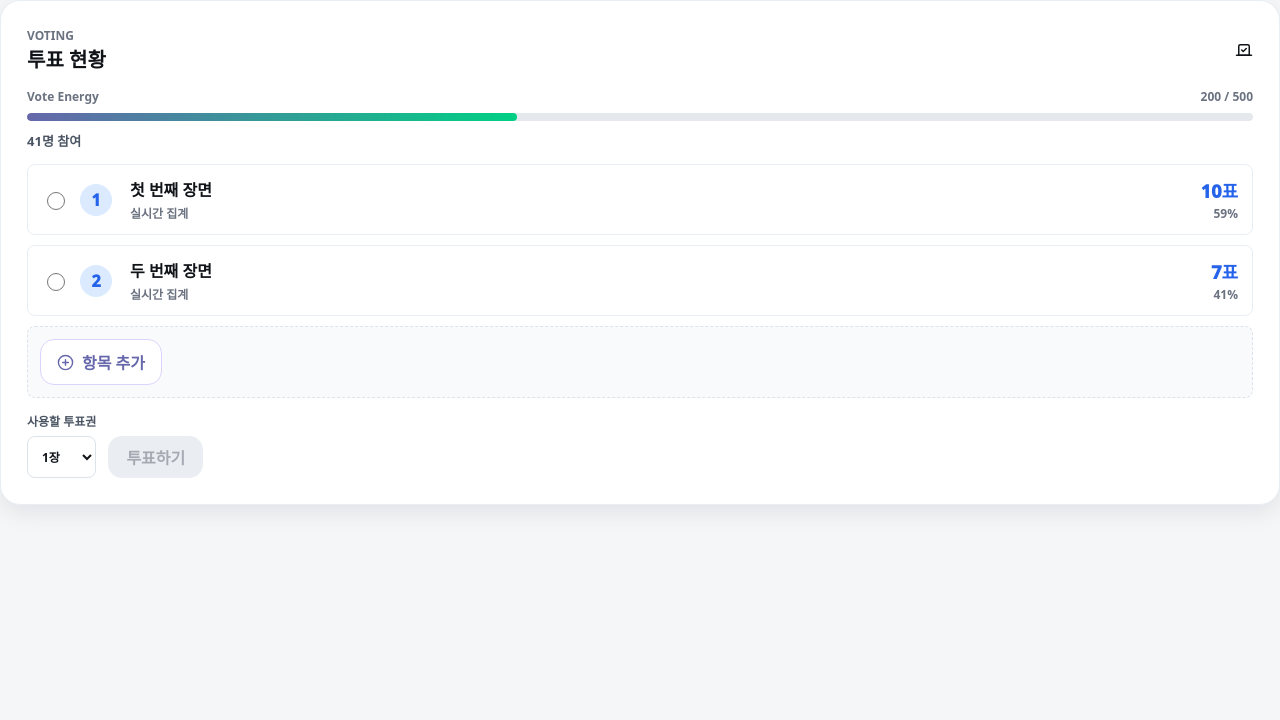
Test: VotePanel › closes the current vote when Vote Energy reaches the goal
Click the radio button labelled "1 첫 번째 장면 실시간 집계 10표 59%" at [56, 201], box [47, 192, 65, 210]
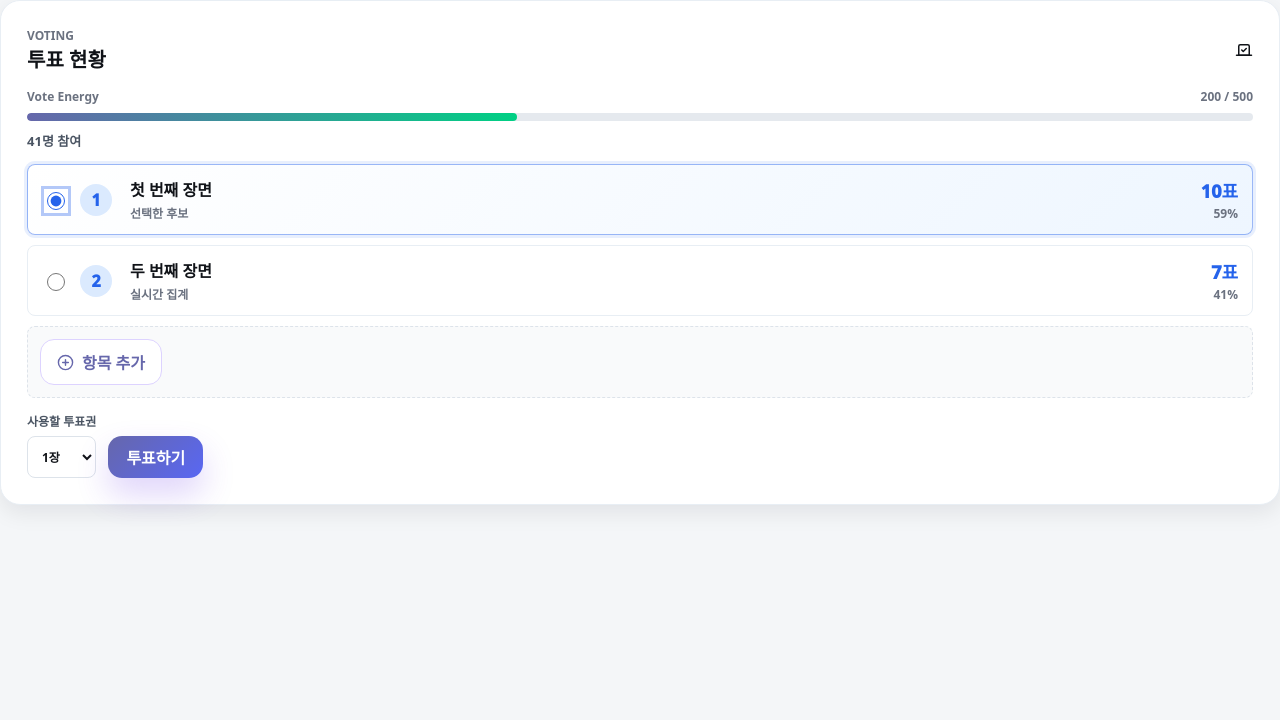
Click the button "투표하기" at [156, 457], box [108, 436, 203, 478]
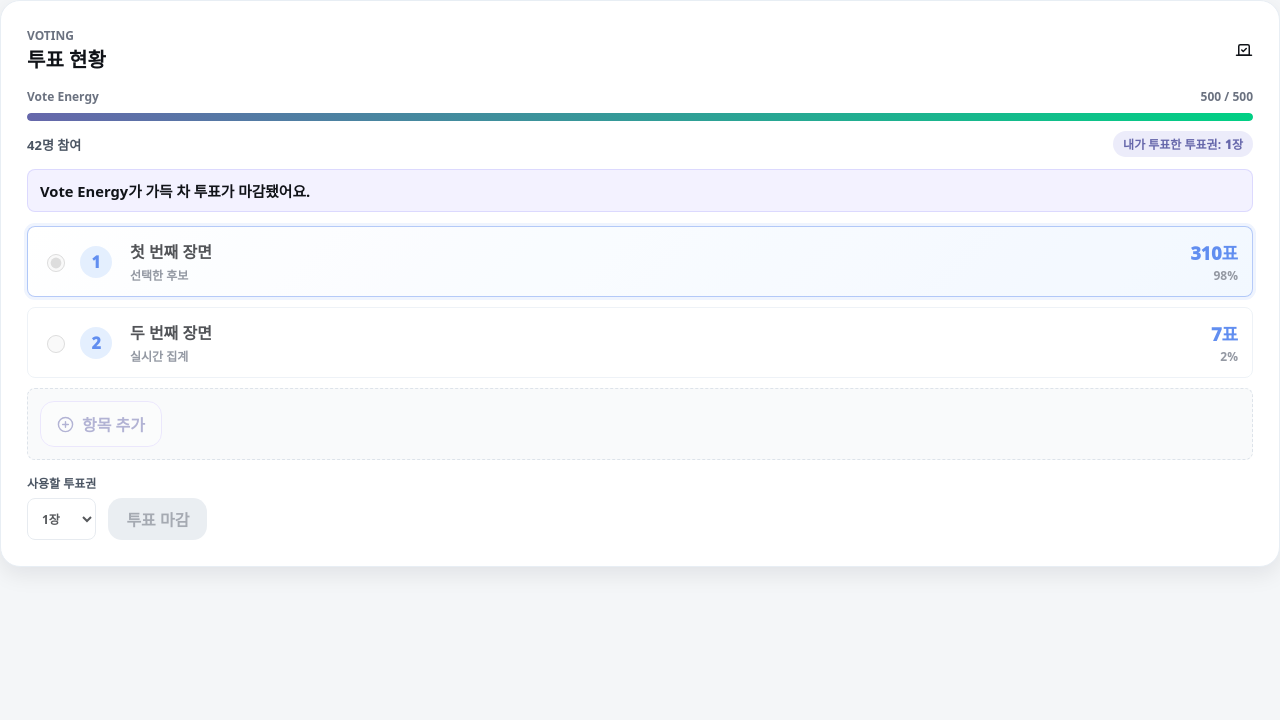
Check: the message reads "Vote Energy가 가득 차 투표가 마감됐어요.", box [40, 181, 310, 201]
Check: the button "투표 마감" is disabled, box [108, 498, 207, 540]
